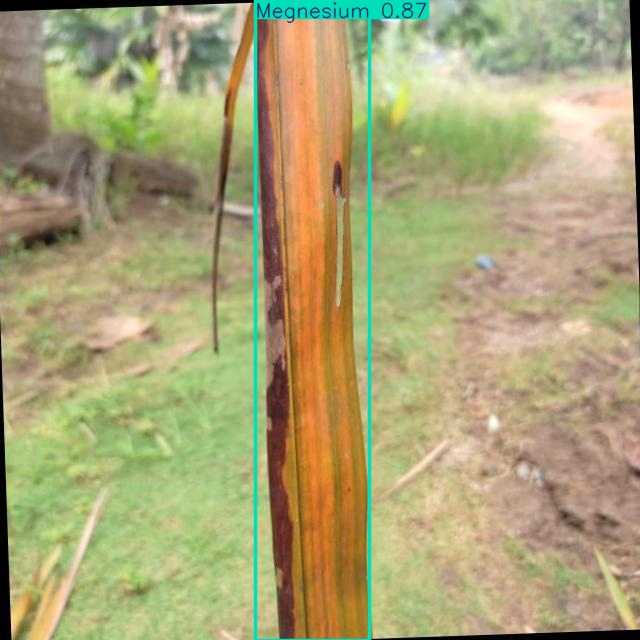Megnesium: (255, 0, 370, 640)
